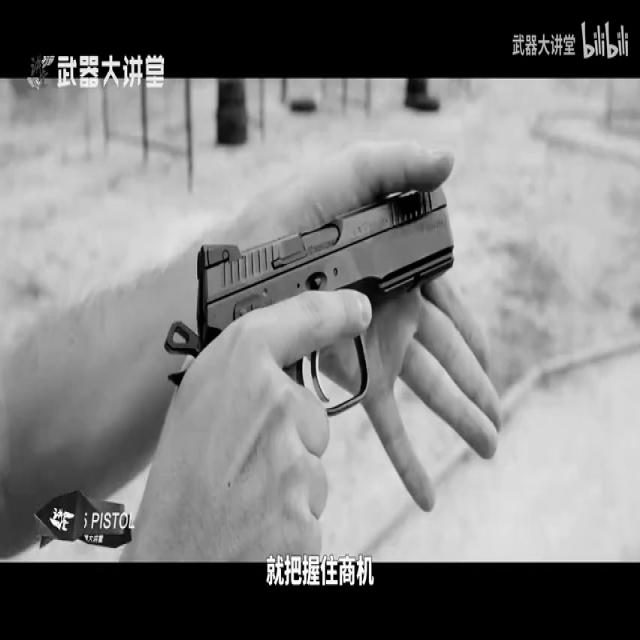Hand-Gun: (148, 140, 484, 558)
